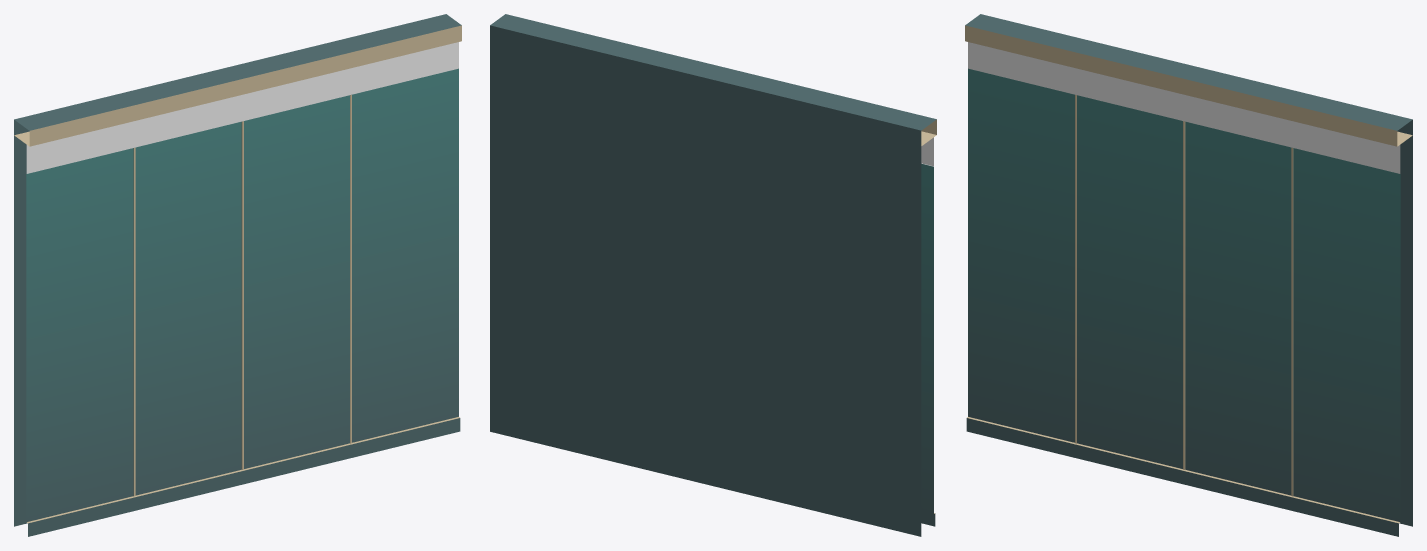
Rendered from KC32__AD_Int_Room_Wall_Plain_Teal.glb.
3 renders of one model, left to right at view 1: azimuth 30°, elevation 25°; view 2: azimuth 150°, elevation 25°; view 3: azimuth 330°, elevation 25°, orthographic.
Parts seen in each view (by area): view 1: KC32_CORPS__AD_Int_Room_Wall_Plain_Teal, KC32_ACCENT__AD_Int_Room_Wall_Plain_Teal, KC32_BRONZE__AD_Int_Room_Wall_Plain_Teal; view 2: KC32_CORPS__AD_Int_Room_Wall_Plain_Teal; view 3: KC32_CORPS__AD_Int_Room_Wall_Plain_Teal, KC32_ACCENT__AD_Int_Room_Wall_Plain_Teal, KC32_BRONZE__AD_Int_Room_Wall_Plain_Teal.
Boxes of the visible parts, x1=… form: KC32_CORPS__AD_Int_Room_Wall_Plain_Teal: x1=14, y1=14, x2=461, y2=536; KC32_ACCENT__AD_Int_Room_Wall_Plain_Teal: x1=26, y1=42, x2=458, y2=173; KC32_BRONZE__AD_Int_Room_Wall_Plain_Teal: x1=14, y1=25, x2=461, y2=523; KC32_CORPS__AD_Int_Room_Wall_Plain_Teal: x1=490, y1=14, x2=936, y2=536; KC32_CORPS__AD_Int_Room_Wall_Plain_Teal: x1=965, y1=14, x2=1412, y2=536; KC32_ACCENT__AD_Int_Room_Wall_Plain_Teal: x1=968, y1=42, x2=1400, y2=173; KC32_BRONZE__AD_Int_Room_Wall_Plain_Teal: x1=965, y1=25, x2=1412, y2=523.
Size of the model in its own units: 4 by 3.6 by 0.25.
